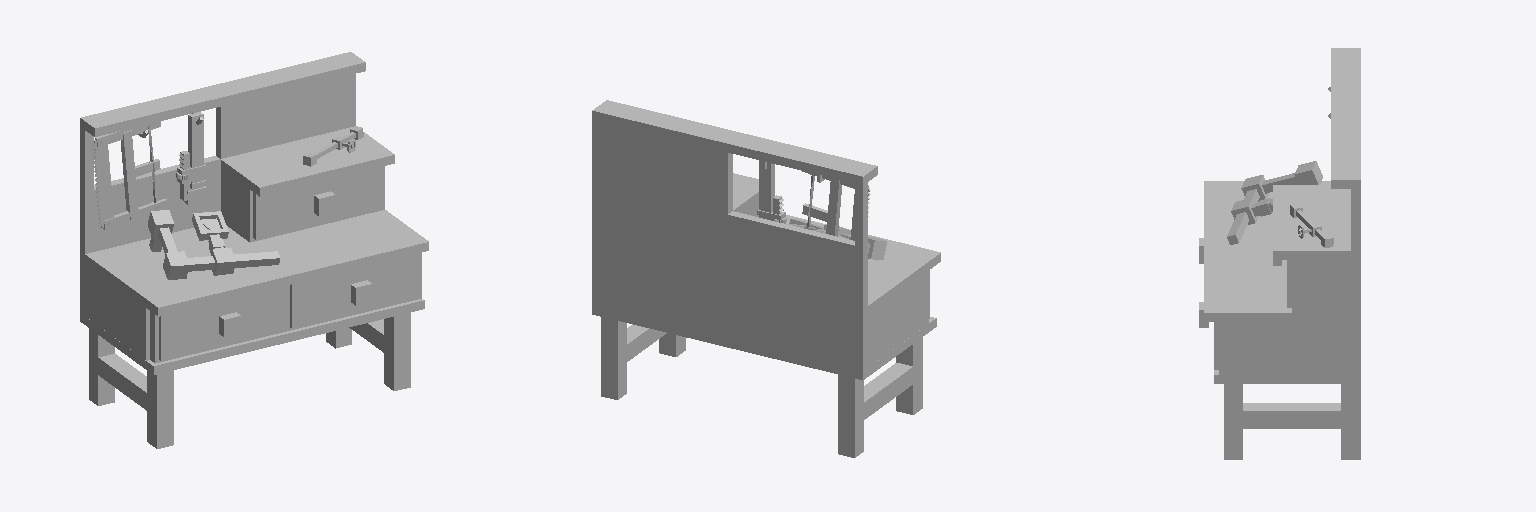
The model's file is engineer_workbench.obj.
3 renders of one model, left to right at view 1: azimuth 30°, elevation 25°; view 2: azimuth 150°, elevation 25°; view 3: azimuth 270°, elevation 25°, orthographic.
Visible parts, largest first — view 1: workbench, workbench2, workbench0, workbench6, workbench10, workbench23, workbench17, workbench3B, workbench21, workbench9, workbench7, workbench27 (+17 smaller); view 2: workbench10, workbench2, workbench14, workbench11, workbench1, workbench, workbench9, workbench21, workbench7, workbench13, workbench12, workbench31 (+8 smaller); view 3: workbench0, workbench20, workbench6, workbench, workbench4, workbench30, workbench7, workbench9, workbench12, workbench29, workbench15, workbench1 (+6 smaller).
Boxes of the visible parts, box(x1,y1,x2,y2) form: workbench: box(80, 226, 293, 316); workbench2: box(216, 74, 355, 158); workbench0: box(251, 210, 428, 283); workbench6: box(221, 127, 394, 196); workbench10: box(80, 156, 220, 253); workbench23: box(159, 285, 289, 360); workbench17: box(290, 253, 420, 328); workbench3B: box(253, 166, 383, 239); workbench21: box(85, 263, 149, 360); workbench9: box(80, 85, 229, 136); workbench7: box(216, 52, 365, 103); workbench27: box(85, 317, 288, 374); workbench10: box(728, 211, 867, 309); workbench2: box(592, 120, 732, 214); workbench14: box(728, 286, 867, 379); workbench11: box(592, 253, 727, 347); workbench1: box(592, 182, 727, 276); workbench: box(728, 220, 940, 317); workbench9: box(728, 133, 877, 184); workbench21: box(868, 271, 928, 367); workbench7: box(592, 100, 741, 152); workbench13: box(838, 375, 863, 457); workbench12: box(601, 317, 626, 399); workbench31: box(864, 363, 912, 419); workbench0: box(1204, 247, 1360, 321); workbench20: box(1229, 322, 1350, 374); workbench6: box(1273, 185, 1350, 259); workbench: box(1204, 181, 1330, 246); workbench4: box(1302, 260, 1350, 312); workbench30: box(1243, 403, 1340, 428); workbench7: box(1331, 114, 1360, 188); workbench9: box(1331, 48, 1360, 113); workbench12: box(1341, 384, 1360, 459); workbench29: box(1224, 384, 1242, 459); workbench15: box(1214, 370, 1350, 383); workbench1: box(1351, 251, 1360, 312).
Bounding box in the file's own units: 2 × 2 × 1.03.